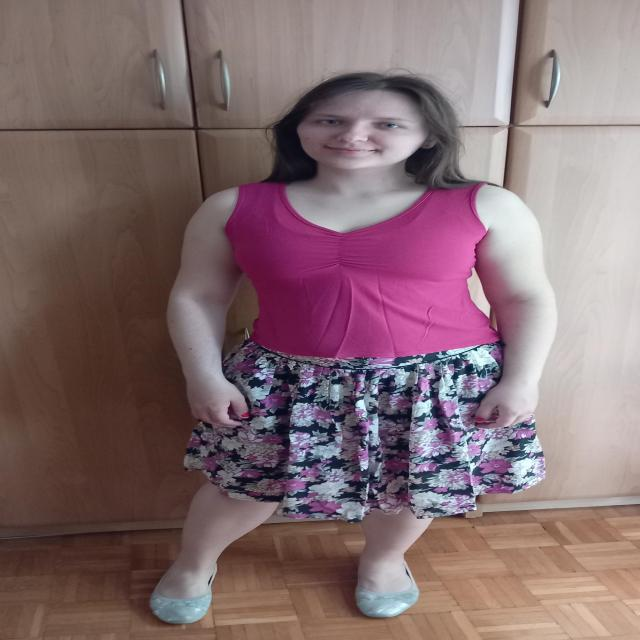Tshirt: (223, 182, 501, 362)
skirt: (183, 338, 545, 524)
